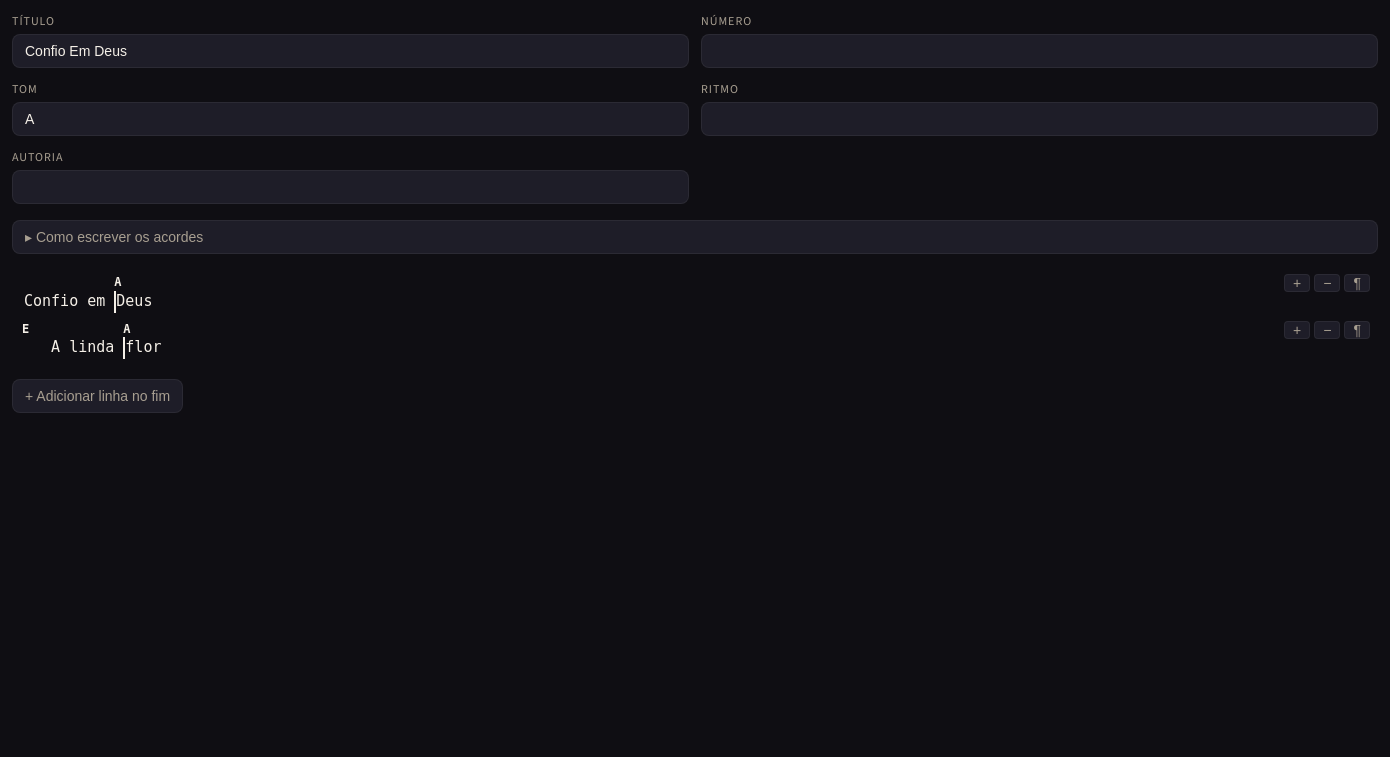
inserir símbolo sem linha aberta › os botões ficam desabilitados e dizem por quê
Click the button "▸ Como escrever os acordes": (118,237) [13,221,1377,253]
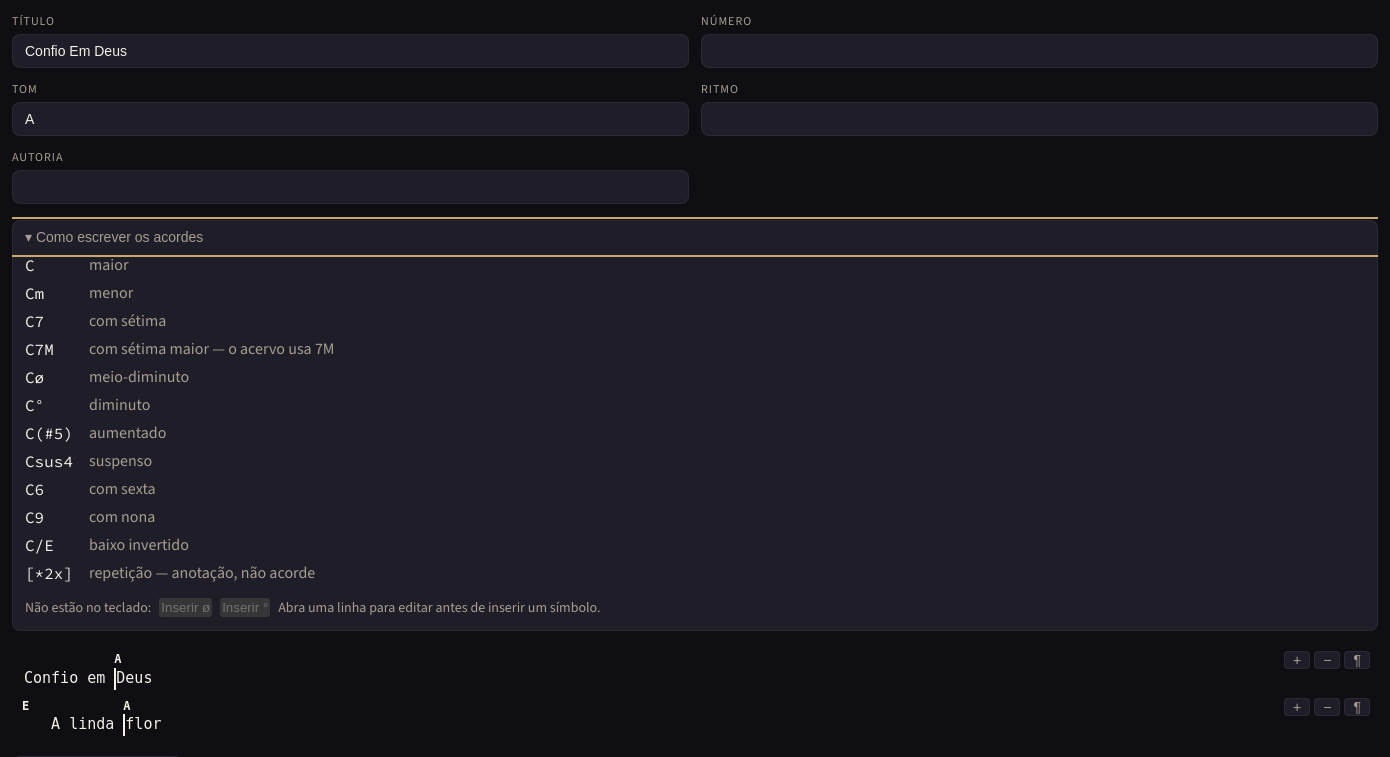
Check: the button "Inserir ø" is disabled, box [159,598,212,617]
